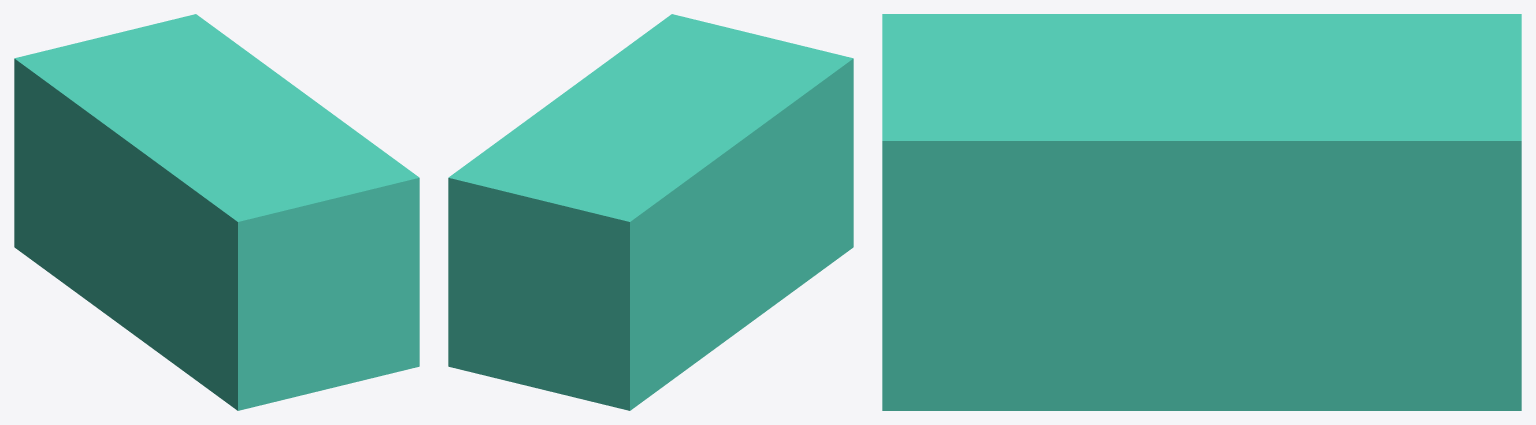
File: block_short.DAE
The picture shows the model from 3 angles, left to right: view 1: azimuth 30°, elevation 25°; view 2: azimuth 150°, elevation 25°; view 3: azimuth 270°, elevation 25°; orthographic projection. The views are drawn at different scales.
Parts seen in each view (by area): view 1: bounds; view 2: bounds; view 3: bounds.
Part boxes in pixels (left/top/right/bottom): bounds: left=14, top=14, right=419, bottom=410; bounds: left=448, top=14, right=853, bottom=410; bounds: left=882, top=14, right=1521, bottom=410.
Bounding box in the file's own units: 1.56 × 3.32 × 1.6.
